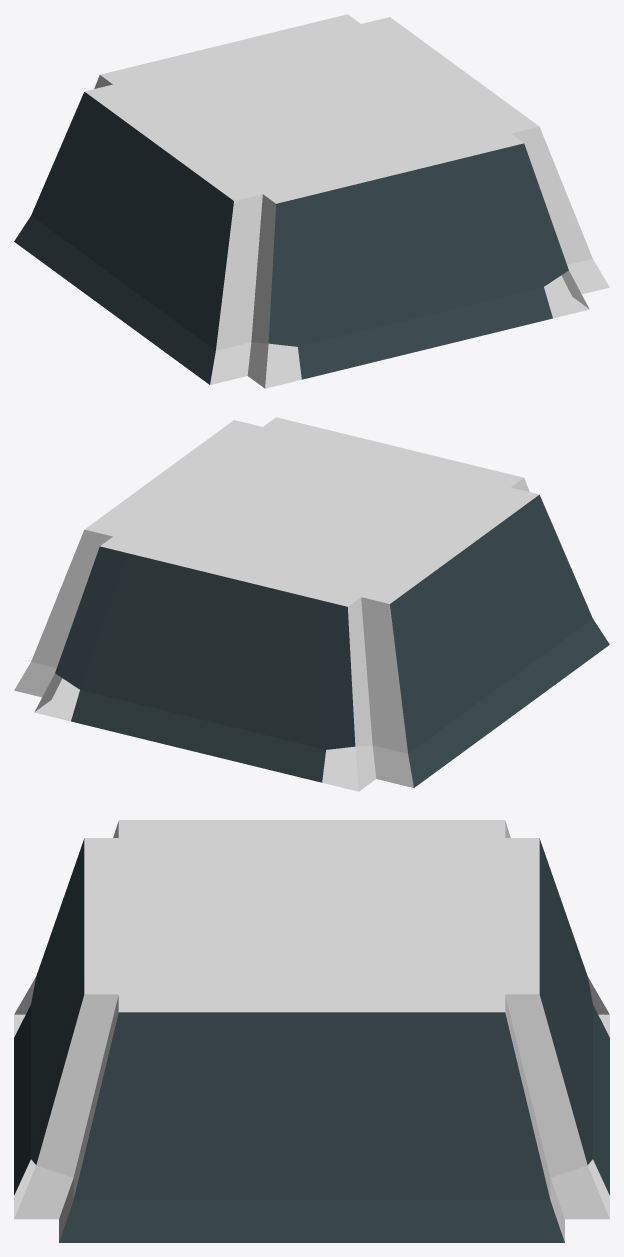
File: dome.fbx
3 views of the same model, one above another, from view 1: azimuth 30°, elevation 25°; view 2: azimuth 150°, elevation 25°; view 3: azimuth 270°, elevation 25° (orthographic). The views are drawn at different scales.
Parts seen in each view (by area): view 1: Dome; view 2: Dome; view 3: Dome.
Boxes of the visible parts, x1,y1,x2,y2 form: Dome: (14, 14, 609, 388); Dome: (14, 417, 609, 791); Dome: (14, 820, 609, 1242).
Size of the model in its own units: 3689 by 1371 by 3689.
